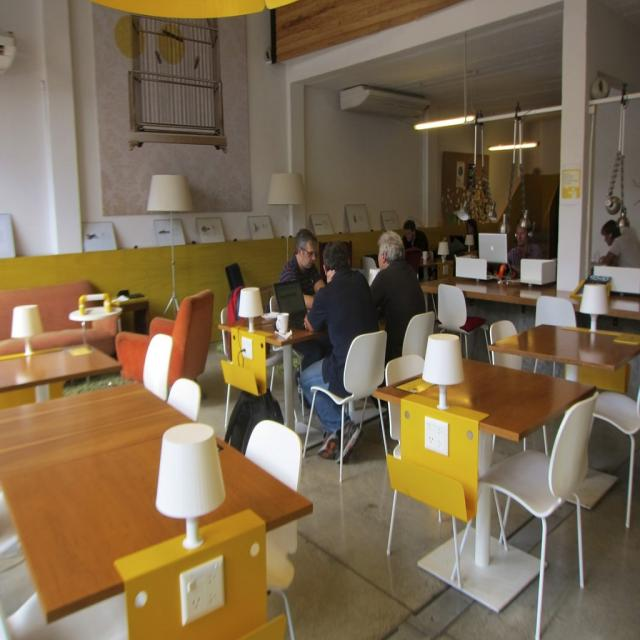chair: (478, 389, 602, 638), (244, 419, 307, 639), (301, 330, 390, 462), (374, 310, 436, 446), (144, 290, 216, 398), (593, 371, 640, 530), (220, 328, 280, 433), (437, 284, 490, 362), (142, 334, 172, 403), (534, 296, 576, 329), (489, 320, 519, 347), (224, 262, 244, 291)
desk: (30, 393, 306, 631)
laptop: (273, 281, 310, 328)
person: (296, 240, 380, 457), (370, 230, 426, 368), (278, 228, 326, 308), (596, 218, 640, 268), (506, 222, 541, 278), (401, 218, 429, 252)
